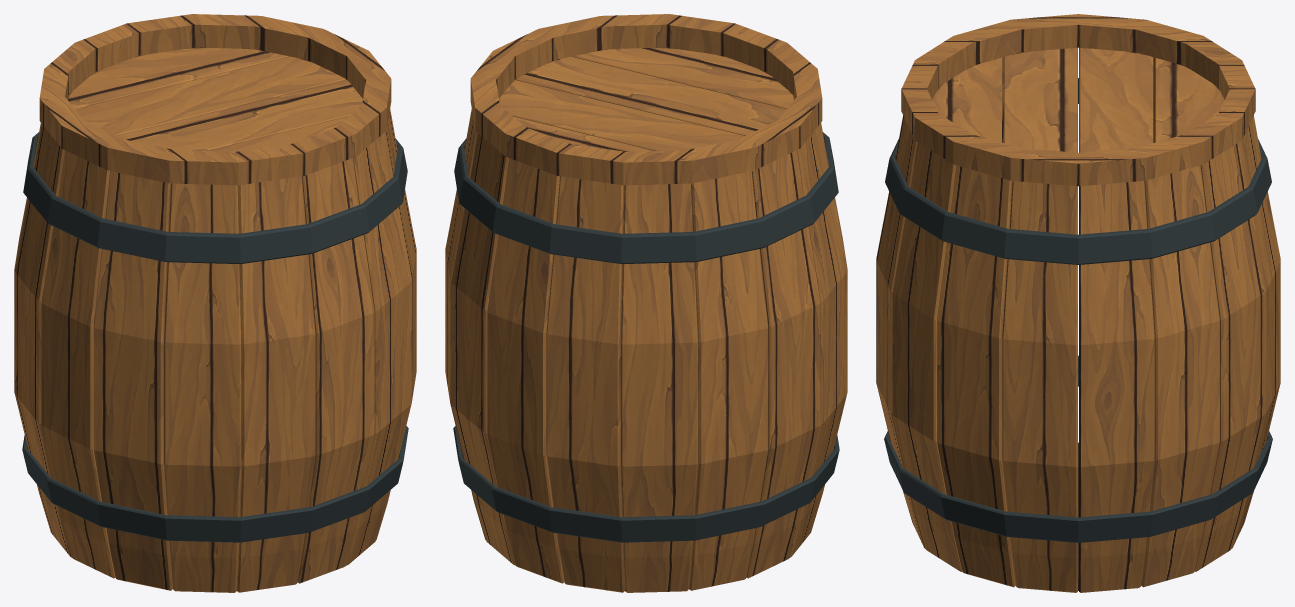
The model's file is aether_barrel_shape_genshin.fbx.
3 views of the same model, side by side, from view 1: azimuth 30°, elevation 25°; view 2: azimuth 150°, elevation 25°; view 3: azimuth 270°, elevation 25° (orthographic).
Parts seen in each view (by area): view 1: aether_barrel_shape_genshin; view 2: aether_barrel_shape_genshin; view 3: aether_barrel_shape_genshin.
Boxes of the visible parts, <box> form: aether_barrel_shape_genshin: <box>14,14,416,592</box>; aether_barrel_shape_genshin: <box>445,14,847,592</box>; aether_barrel_shape_genshin: <box>876,14,1280,592</box>.
Size of the model in its own units: 90.24 by 107 by 90.24.
Materials: 2 (1 with a texture image).
